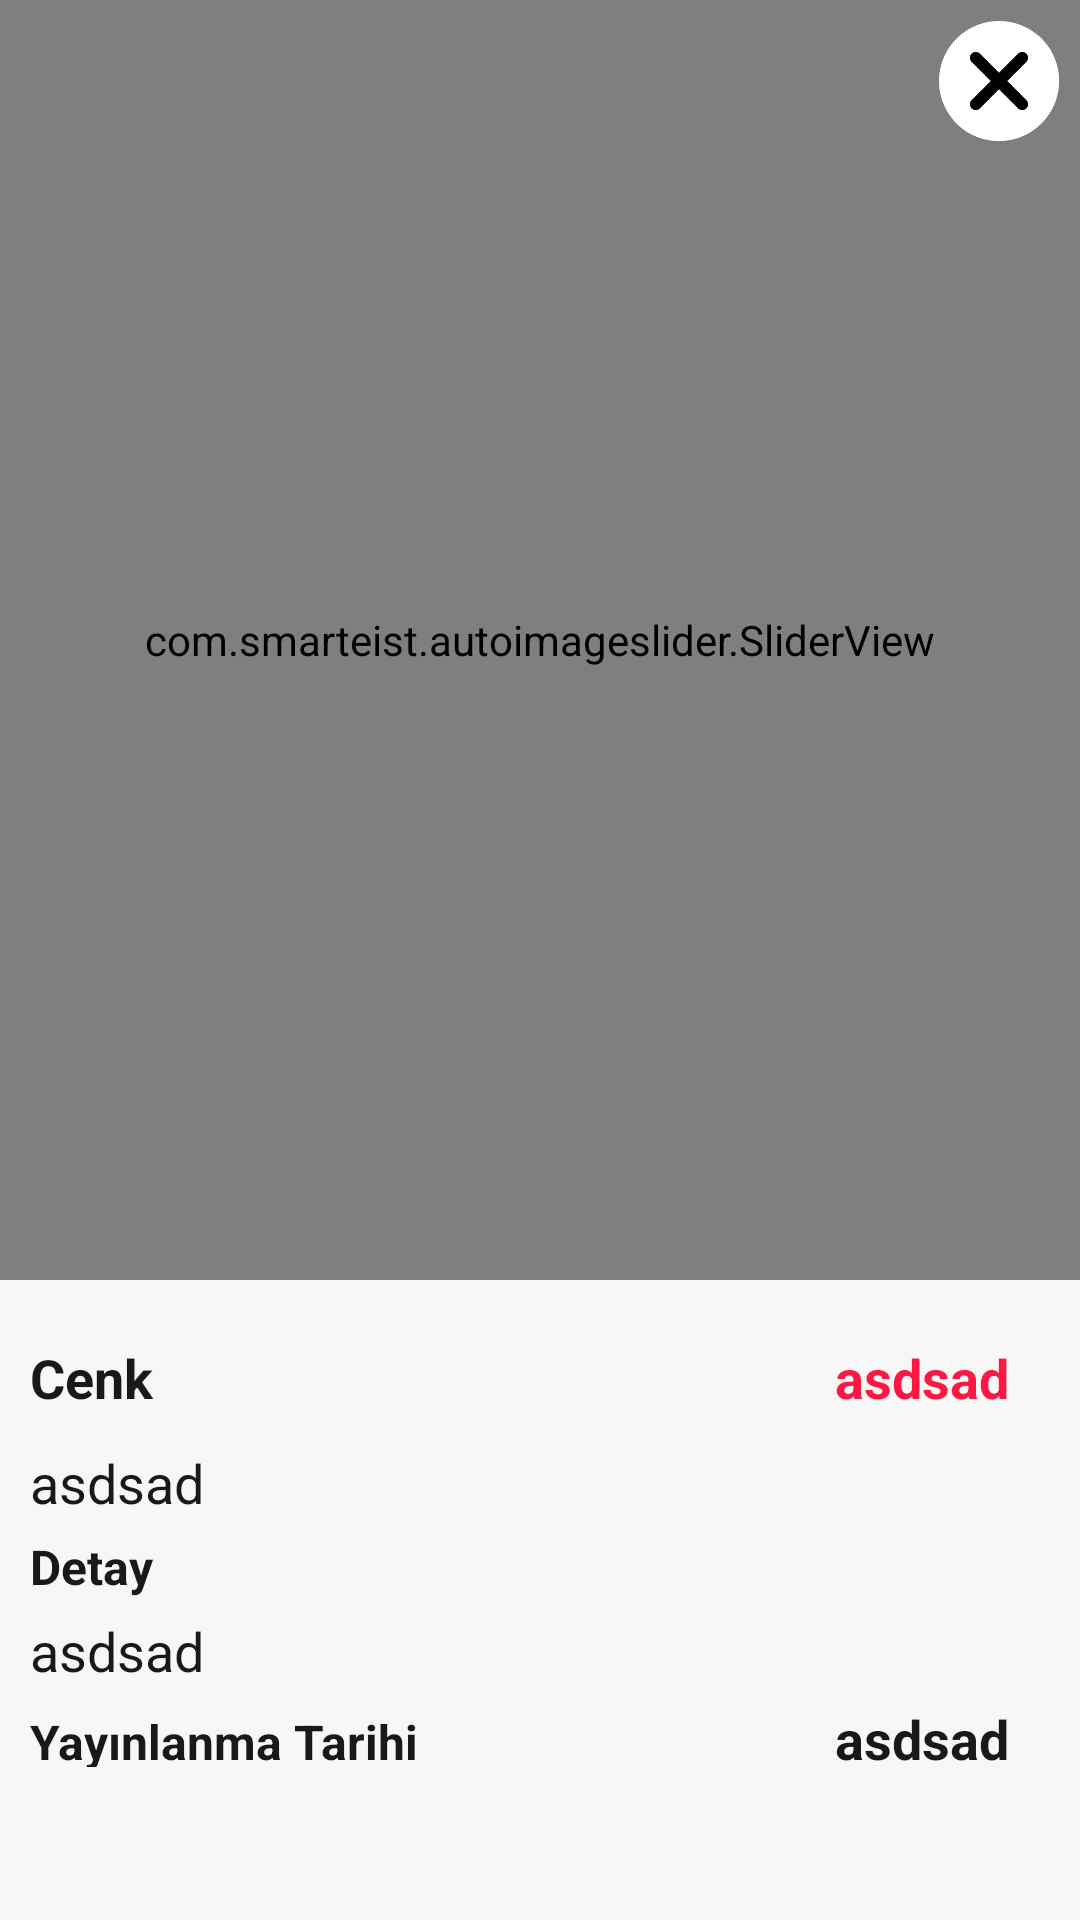

Icon bounding boxes for this 1080 x 1920 phone screenshot, format detection(x1, y1, x2, y2):
newcancel: detection(939, 21, 1059, 141)
